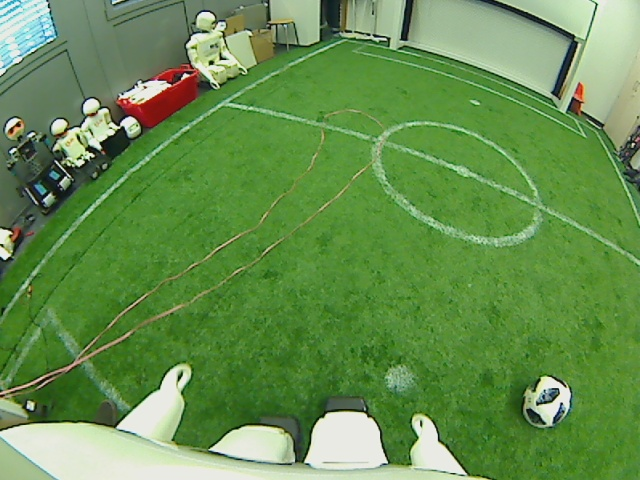ball: (519, 374, 574, 428)
